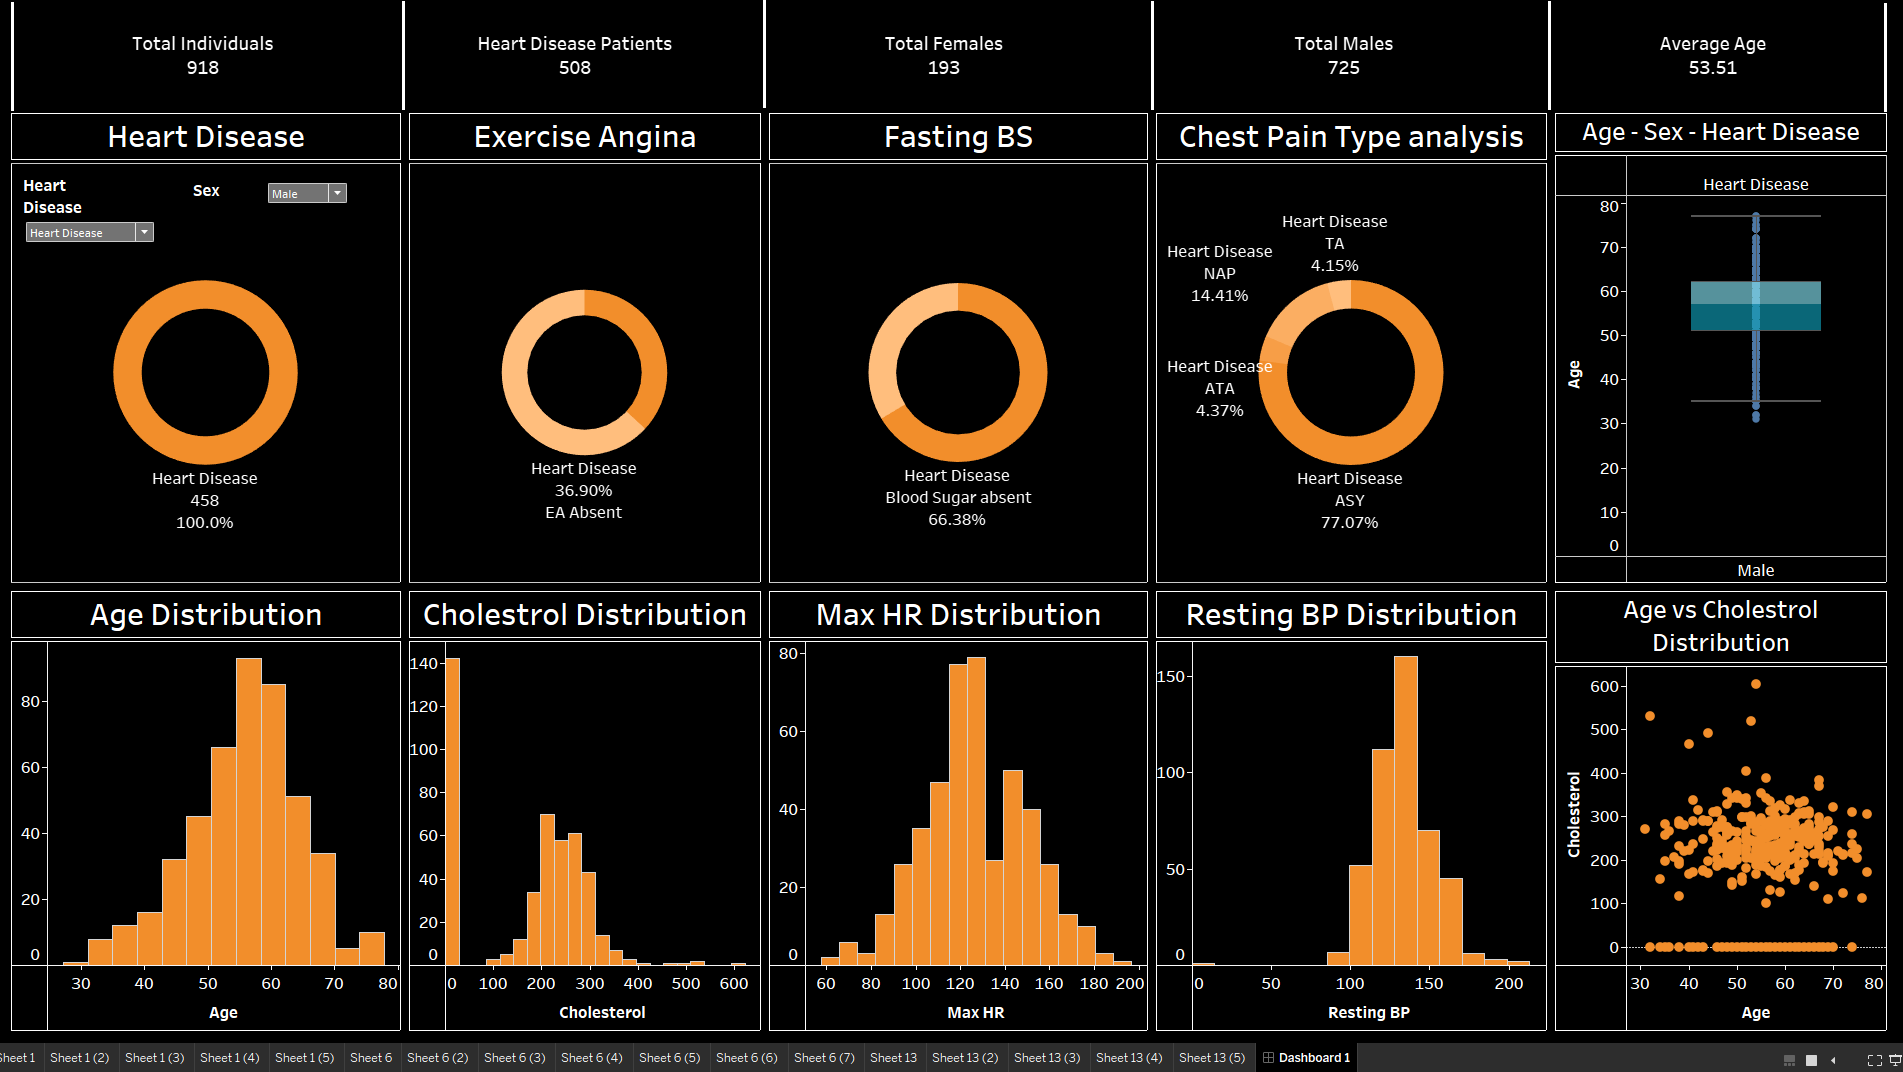

Layout of this report page (visuals, bound fields, positions):
{"tool":"tableau","page":{"name":"Dashboard 1","canvas":[1900,1050],"ordinal":0},"visuals":[{"type":"blank","box":[764,6,3,109]},{"type":"worksheet","title":"Sheet 13","mark":"Automatic","box":[8,8,398,108]},{"type":"blank","box":[403,8,3,109]},{"type":"worksheet","title":"Sheet 13 (2)","mark":"Automatic","box":[406,8,360,108]},{"type":"worksheet","title":"Sheet 13 (3)","mark":"Automatic","box":[766,8,387,108]},{"type":"blank","box":[1152,8,3,109]},{"type":"worksheet","title":"Sheet 13 (4)","mark":"Automatic","box":[1153,8,399,108]},{"type":"blank","box":[1549,8,3,109]},{"type":"worksheet","title":"Sheet 13 (5)","mark":"Automatic","box":[1552,8,340,108]},{"type":"blank","box":[12,9,3,109]},{"type":"blank","box":[1885,10,3,109]},{"type":"worksheet","title":"Sheet 1","mark":"Pie","rows":["Calculation_1559089924405420033","Calculation_1559089924405420033"],"box":[8,116,398,478.5]},{"type":"worksheet","title":"Sheet 1 (2)","mark":"Pie","rows":["Calculation_1559089924405420033","Calculation_1559089924405420033"],"box":[406,116,360.1,478]},{"type":"worksheet","title":"Sheet 1 (3)","mark":"Pie","rows":["Calculation_1559089924405420033","Calculation_1559089924405420033"],"box":[766,116,386.9,478]},{"type":"worksheet","title":"Sheet 1 (5)","mark":"Pie","rows":["Calculation_1559089924405420033","Calculation_1559089924405420033"],"box":[1152.9,116,399,478]},{"type":"worksheet","title":"Sheet 6 (7)","mark":"Circle","rows":["Age"],"cols":["HeartDisease","Sex"],"box":[1552,116,340,478]},{"type":"filter","title":"Sheet 1","param":"[federated.0mmssow19dczy51bjvsjd0ov2lq9].[none:HeartDisease:nk]","box":[24,181,134,85]},{"type":"filter","title":"Sheet 6 (7)","param":"[federated.0mmssow19dczy51bjvsjd0ov2lq9].[none:Sex:nk]","box":[194,187,157,36]},{"type":"worksheet","title":"Sheet 6 (2)","mark":"Automatic","rows":["Cholesterol"],"cols":["Cholesterol (bin)"],"box":[406,594,360.1,448]},{"type":"worksheet","title":"Sheet 6 (3)","mark":"Automatic","rows":["MaxHR"],"cols":["Max HR (bin)"],"box":[766,594,386.9,448]},{"type":"worksheet","title":"Sheet 6 (4)","mark":"Automatic","rows":["RestingBP"],"cols":["Resting BP (bin)"],"box":[1152.9,594,399,448]},{"type":"worksheet","title":"Sheet 6 (6)","mark":"Automatic","rows":["Cholesterol"],"cols":["Age"],"box":[1552,594,340,448]},{"type":"worksheet","title":"Sheet 6","mark":"Automatic","rows":["Age"],"cols":["Age (bin)"],"box":[8,594.5,398,447.5]}]}

Visuals, with their boxes on the page's 1900x1050 design canvas (x1, y1, x2, y2). These are canvas units, not pixel positions in the 1903x1072 screenshot, which may show the page scaled, cropped or inside an application window:
blank: (left=764, top=6, right=767, bottom=115)
"Sheet 13" worksheet: (left=8, top=8, right=406, bottom=116)
blank: (left=403, top=8, right=406, bottom=117)
"Sheet 13 (2)" worksheet: (left=406, top=8, right=766, bottom=116)
"Sheet 13 (3)" worksheet: (left=766, top=8, right=1153, bottom=116)
blank: (left=1152, top=8, right=1155, bottom=117)
"Sheet 13 (4)" worksheet: (left=1153, top=8, right=1552, bottom=116)
blank: (left=1549, top=8, right=1552, bottom=117)
"Sheet 13 (5)" worksheet: (left=1552, top=8, right=1892, bottom=116)
blank: (left=12, top=9, right=15, bottom=118)
blank: (left=1885, top=10, right=1888, bottom=119)
"Sheet 1" worksheet (Pie marks): (left=8, top=116, right=406, bottom=594)
"Sheet 1 (2)" worksheet (Pie marks): (left=406, top=116, right=766, bottom=594)
"Sheet 1 (3)" worksheet (Pie marks): (left=766, top=116, right=1153, bottom=594)
"Sheet 1 (5)" worksheet (Pie marks): (left=1153, top=116, right=1552, bottom=594)
"Sheet 6 (7)" worksheet (Circle marks): (left=1552, top=116, right=1892, bottom=594)
"Sheet 1" filter: (left=24, top=181, right=158, bottom=266)
"Sheet 6 (7)" filter: (left=194, top=187, right=351, bottom=223)
"Sheet 6 (2)" worksheet: (left=406, top=594, right=766, bottom=1042)
"Sheet 6 (3)" worksheet: (left=766, top=594, right=1153, bottom=1042)
"Sheet 6 (4)" worksheet: (left=1153, top=594, right=1552, bottom=1042)
"Sheet 6 (6)" worksheet: (left=1552, top=594, right=1892, bottom=1042)
"Sheet 6" worksheet: (left=8, top=594, right=406, bottom=1042)
